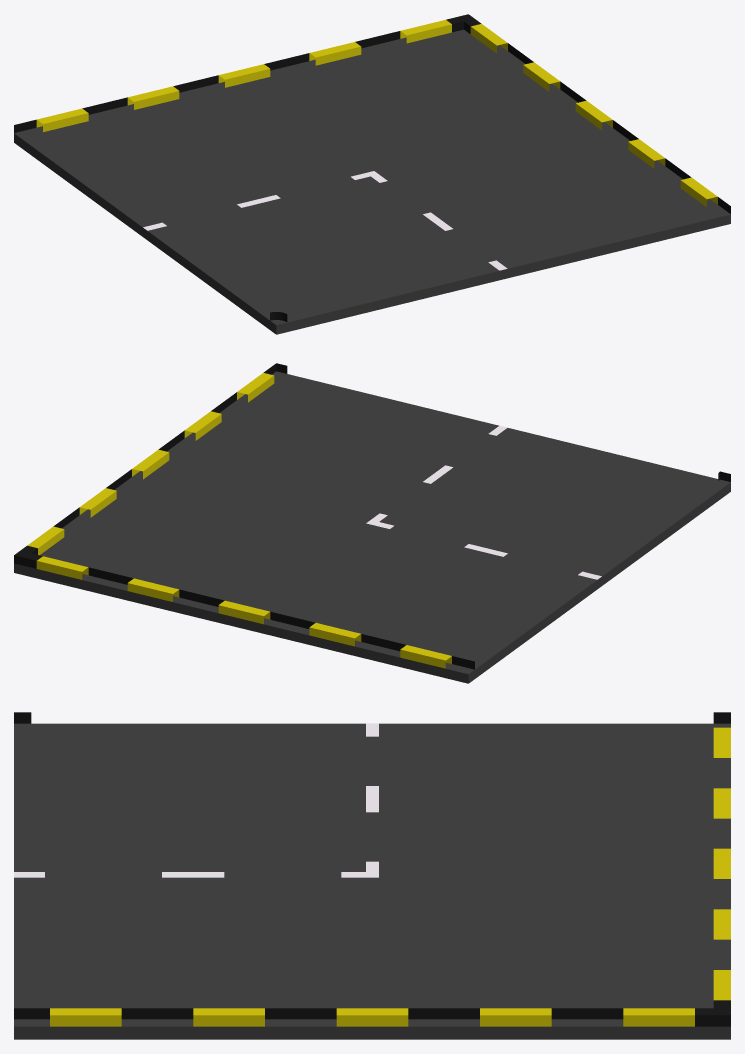
Rendered from corner.glb.
3 renders of one model, top to bottom at view 1: azimuth 30°, elevation 25°; view 2: azimuth 150°, elevation 25°; view 3: azimuth 270°, elevation 25°, orthographic. The views are drawn at different scales.
Parts seen in each view (by area): view 1: Corner; view 2: Corner; view 3: Corner.
Boxes of the visible parts, x1=… form: Corner: x1=14, y1=14, x2=730, y2=334; Corner: x1=14, y1=363, x2=730, y2=683; Corner: x1=14, y1=712, x2=730, y2=1039.
Size of the model in its own units: 2 by 0.0741 by 2.
